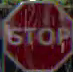Stop: (1, 0, 72, 71)
